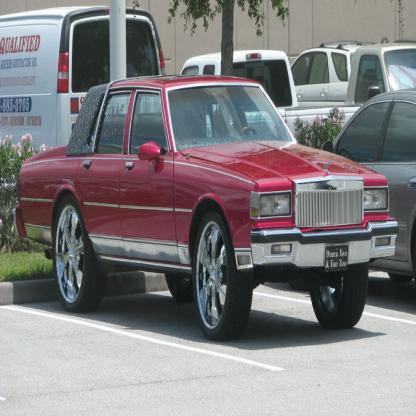Car: (12, 41, 416, 342)
